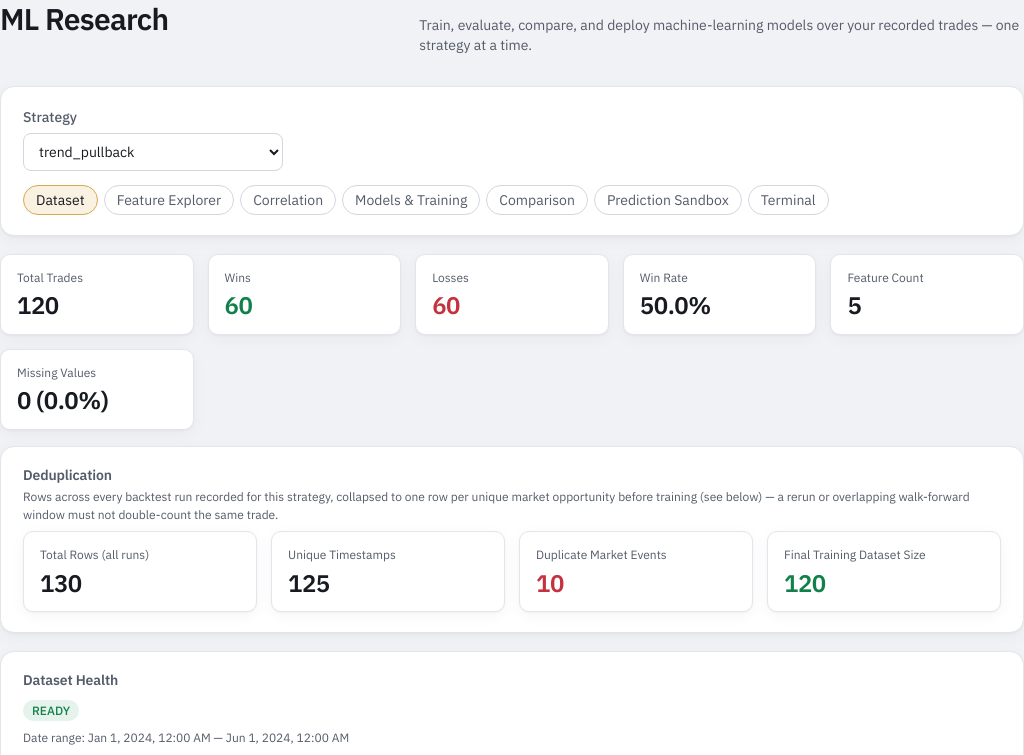
Test: MlResearch › Prediction Sandbox tab: predicting shows the model output
Expected: the text "READY" is shown, left=23, top=700, right=79, bottom=721
Click the button "Prediction Sandbox" at coordinates (668, 200), box left=594, top=185, right=742, bottom=215
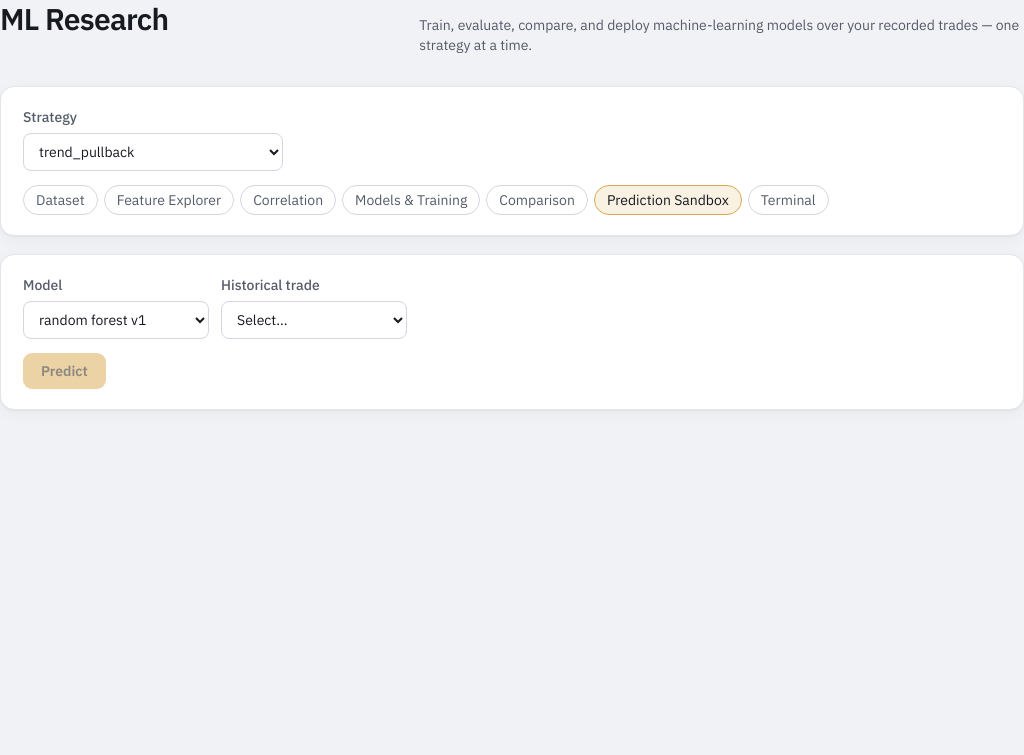
Select "Jan 1, 2024, 09:00 AM · win · $48.76" in the dropdown labelled "Historical trade" at coordinates (314, 320), box left=221, top=301, right=407, bottom=339
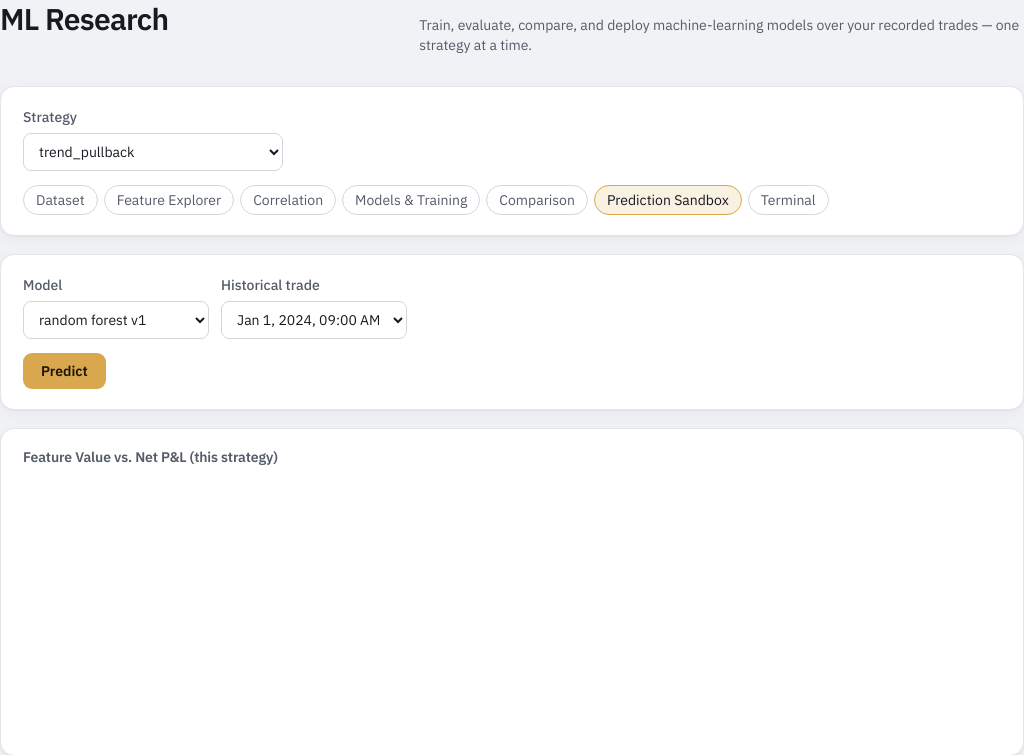
Click the button "Predict" at coordinates (64, 371), box left=23, top=353, right=106, bottom=389
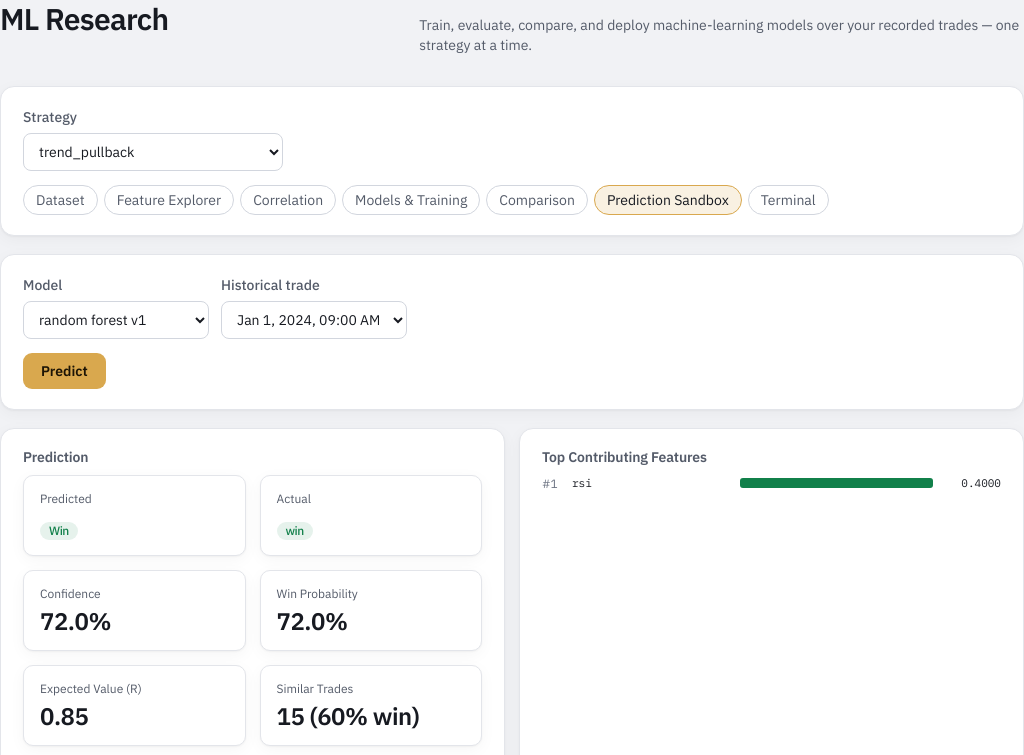
Now the text "72.0%" is shown 2 times, box left=40, top=605, right=111, bottom=637; left=276, top=605, right=348, bottom=637
Now the text "0.85" is shown, box left=40, top=700, right=88, bottom=732
